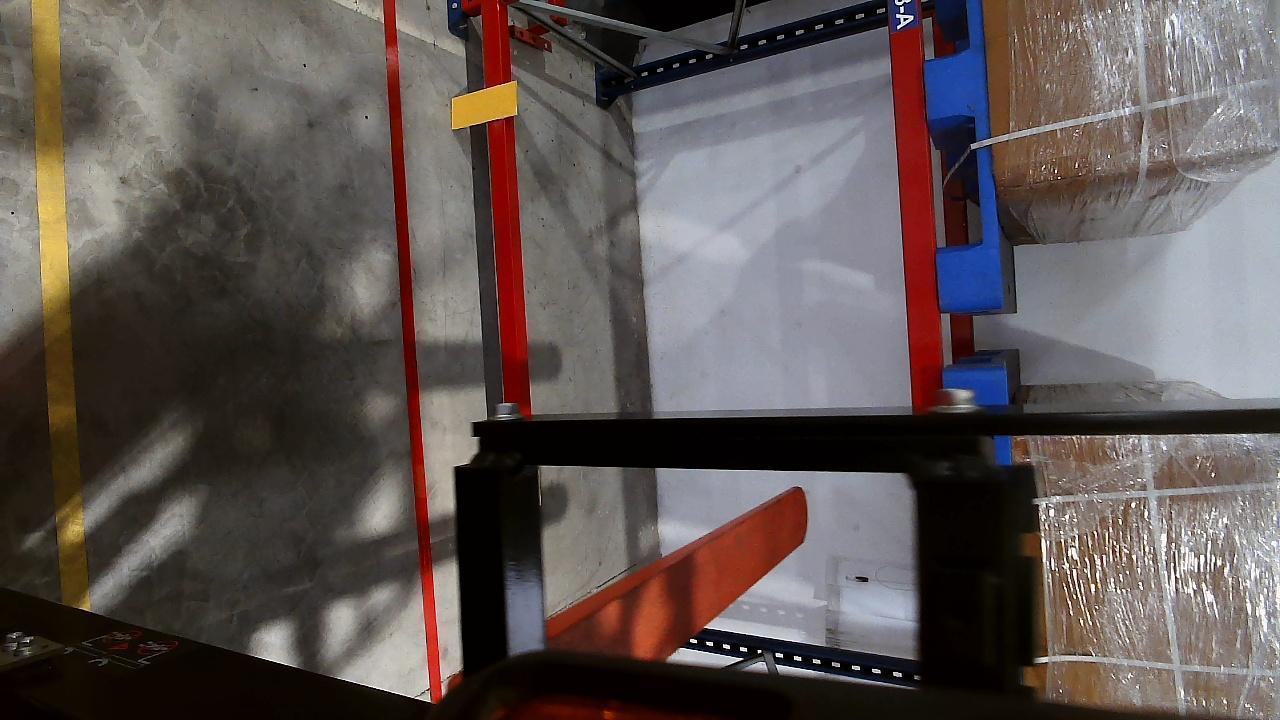red_line: (382, 3, 442, 694)
yellow_line: (27, 0, 83, 600)
